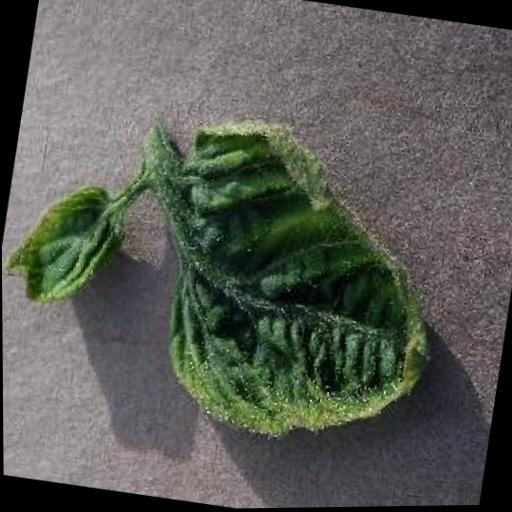Yellow Leaf Curl Virus: (143, 110, 461, 465), (1, 173, 128, 319)
